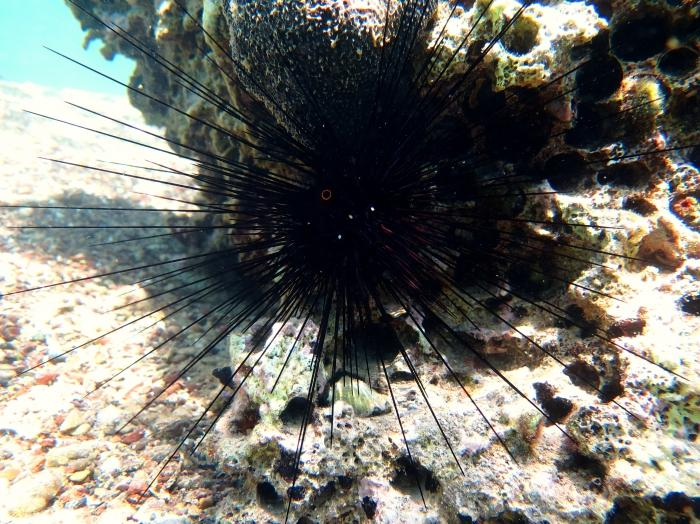urchin: (0, 3, 700, 524)
